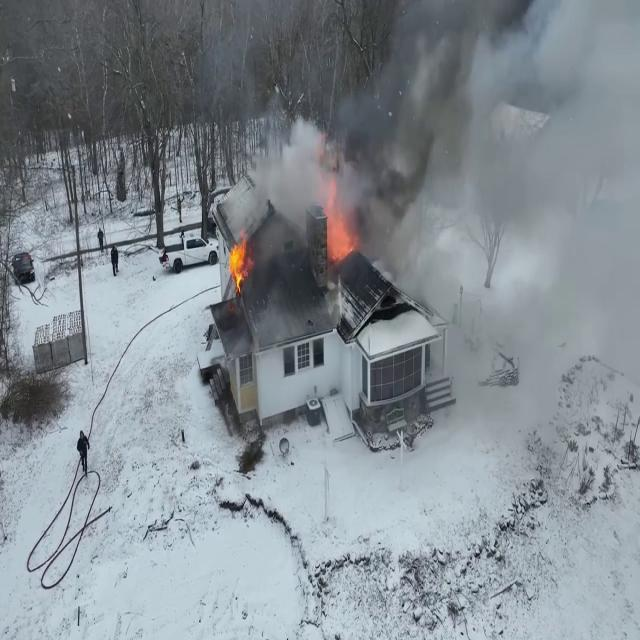Fire: (320, 172, 358, 266), (227, 226, 250, 292)
Smoke: (230, 1, 530, 276)
